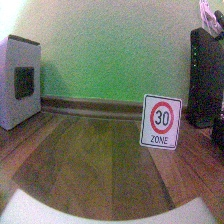dreisiger_zone: (140, 94, 182, 151)
